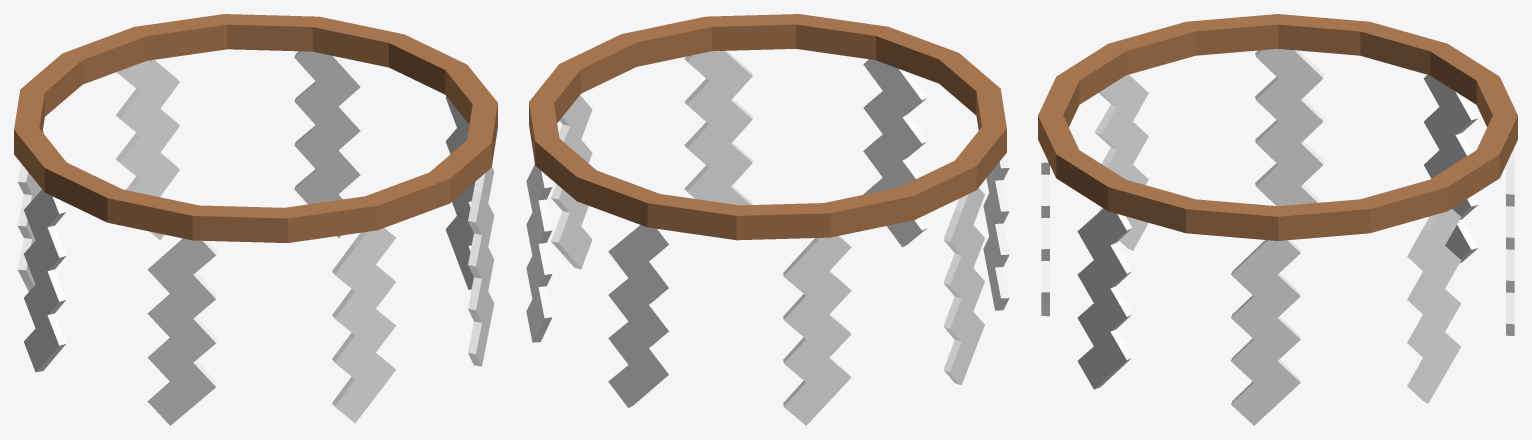
File: keystone.fbx
The picture shows the model from 3 angles, left to right: view 1: azimuth 30°, elevation 25°; view 2: azimuth 150°, elevation 25°; view 3: azimuth 270°, elevation 25°; orthographic projection.
Visible parts, largest first — view 1: Plane; view 2: Plane; view 3: Plane.
Part boxes in pixels (x1,y1,x2,y2): Plane: (14,14,497,425); Plane: (526,14,1009,425); Plane: (1038,14,1517,425).
Size of the model in its own units: 994 by 481 by 994.
